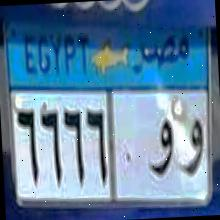6: (84, 100, 111, 189), (39, 104, 63, 190), (62, 106, 86, 190), (16, 105, 40, 188)
waw: (144, 111, 176, 182), (177, 105, 205, 185)
